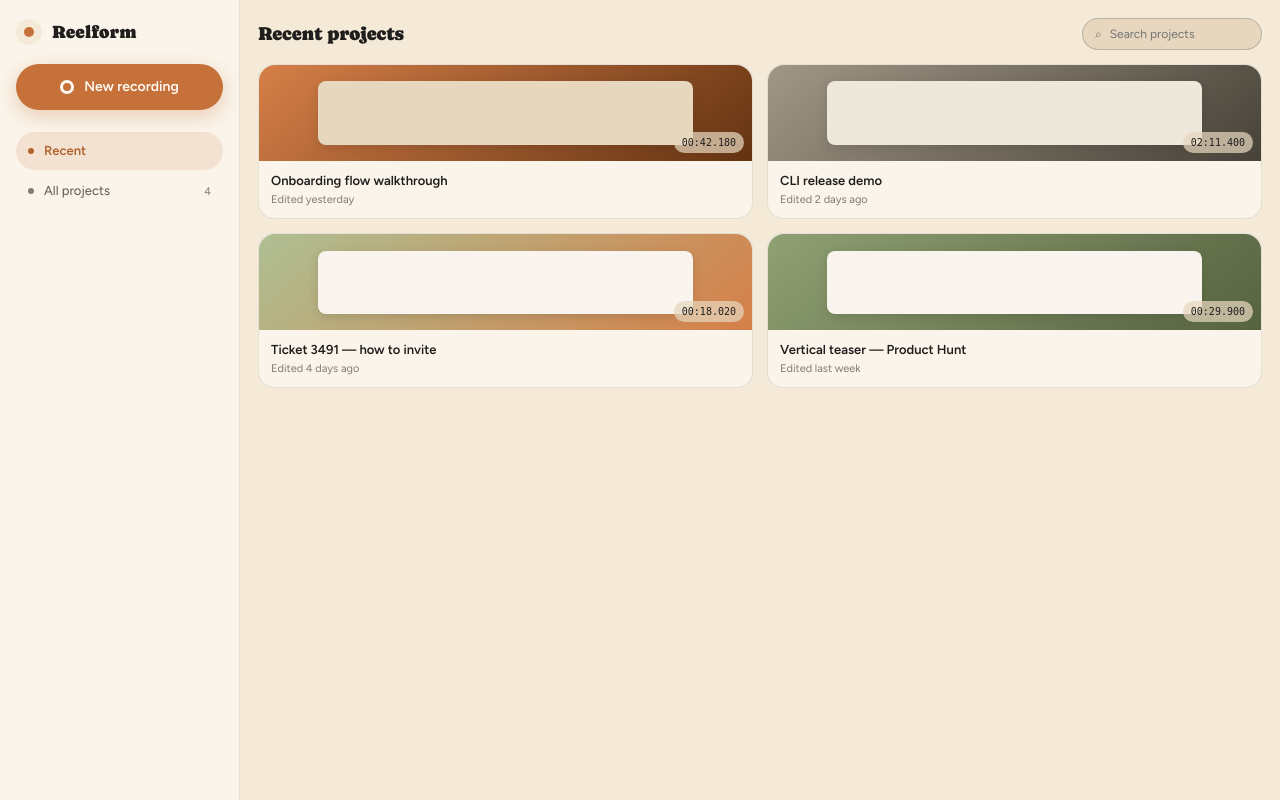
Test: Launcher shelf (S04/01) › search filters cards and reports no matches
Type "cli" into the search field named "Search projects" at [1179, 34], box [1110,25,1249,43]
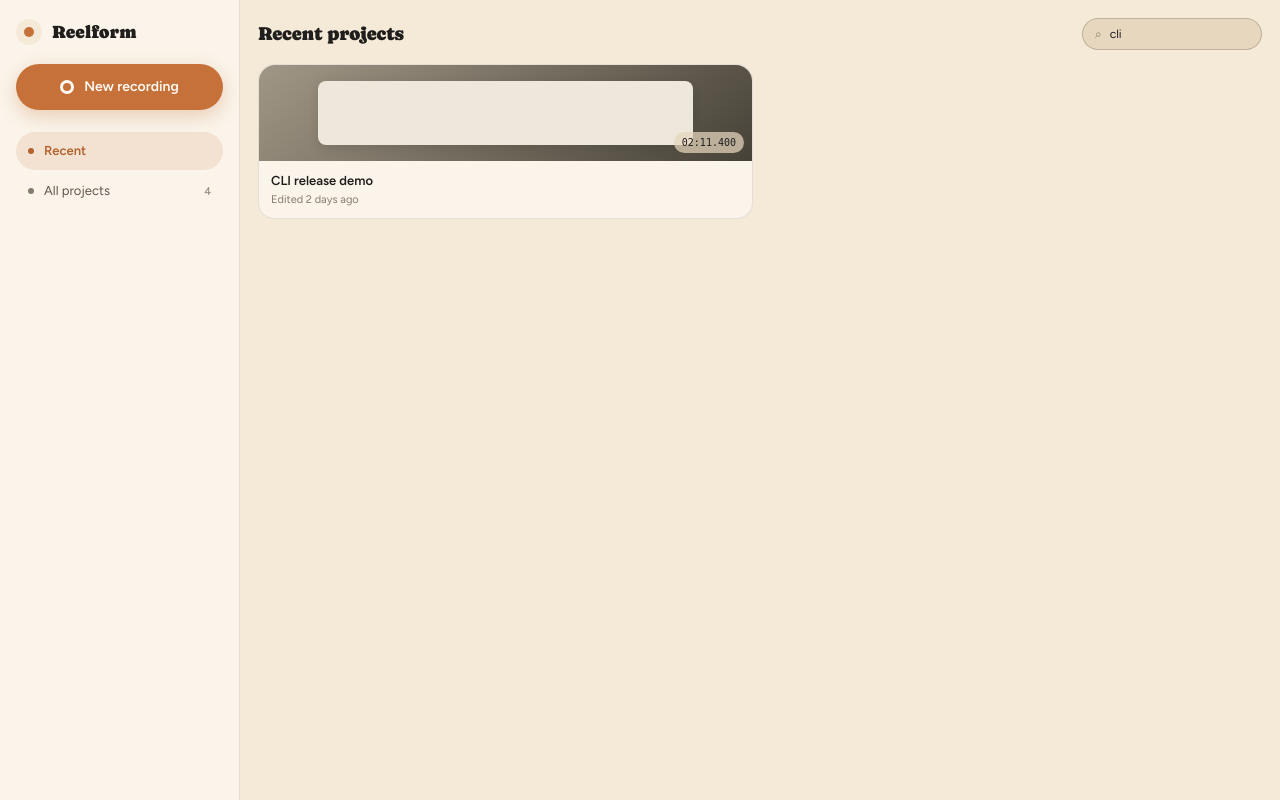
expect the number of list items is 1: met, box [258,64,753,219]
Replace the text in the search field with "zzz" at [1179, 34], box [1110,25,1249,43]
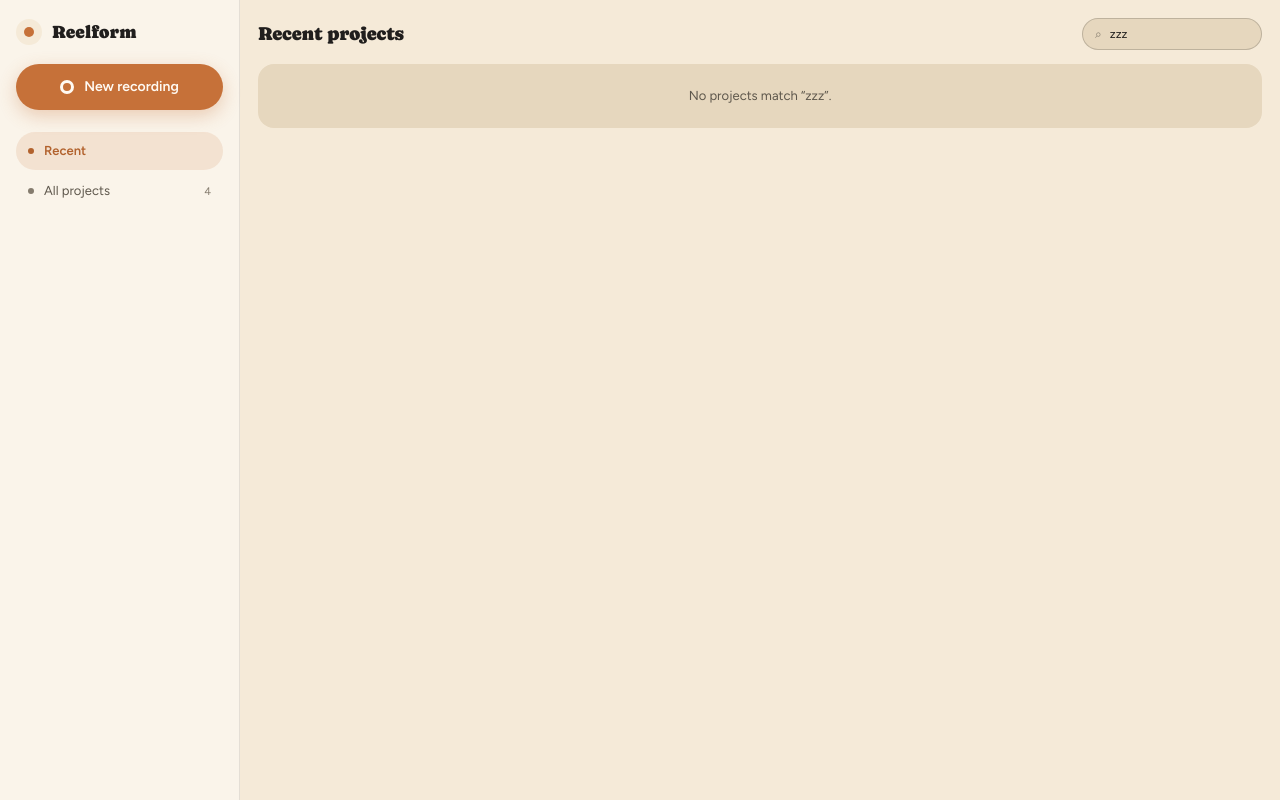
expect the text with test id "launcher-shelf-no-results" shows "No projects match": met, box [689,88,831,103]
